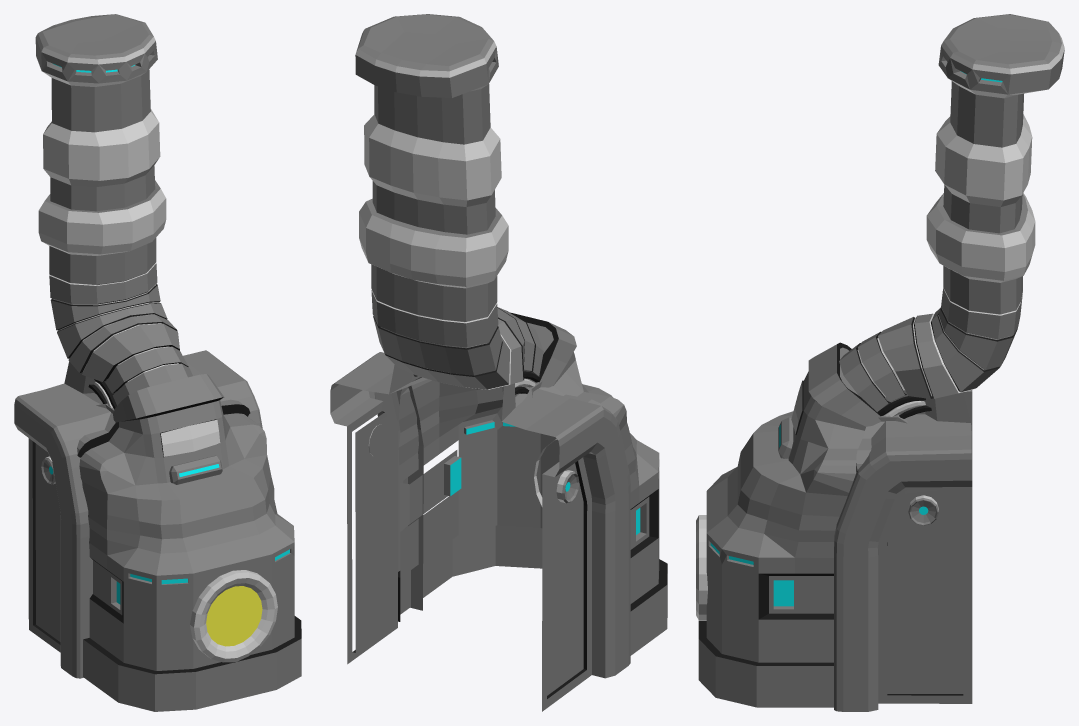
The model's file is Module_002.fbx.
The picture shows the model from 3 angles, left to right: view 1: azimuth 30°, elevation 25°; view 2: azimuth 150°, elevation 25°; view 3: azimuth 270°, elevation 25°; orthographic projection. The views are drawn at different scales.
Visible parts, largest first — view 1: Module_002; view 2: Module_002; view 3: Module_002.
Part boxes in pixels (x1=…): Module_002: x1=14, y1=14, x2=301, y2=711; Module_002: x1=330, y1=14, x2=667, y2=711; Module_002: x1=696, y1=14, x2=1064, y2=711.
Bounding box in the file's own units: 308 × 847 × 456.
